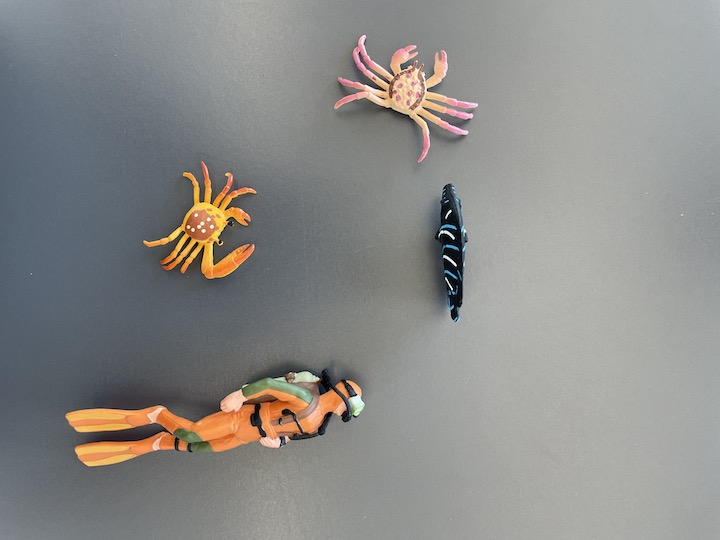crab: (331, 32, 482, 165), (139, 159, 263, 281)
diver: (57, 367, 369, 472)
fish: (435, 181, 471, 324)
